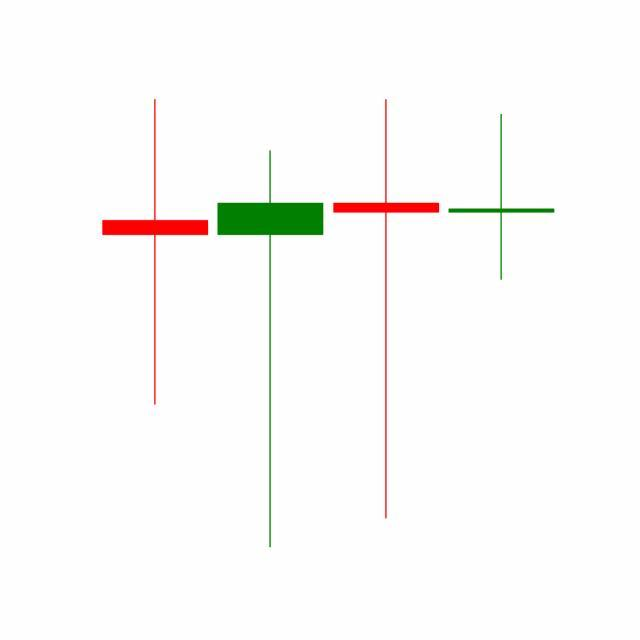Spinning Top: (444, 113, 560, 283)
